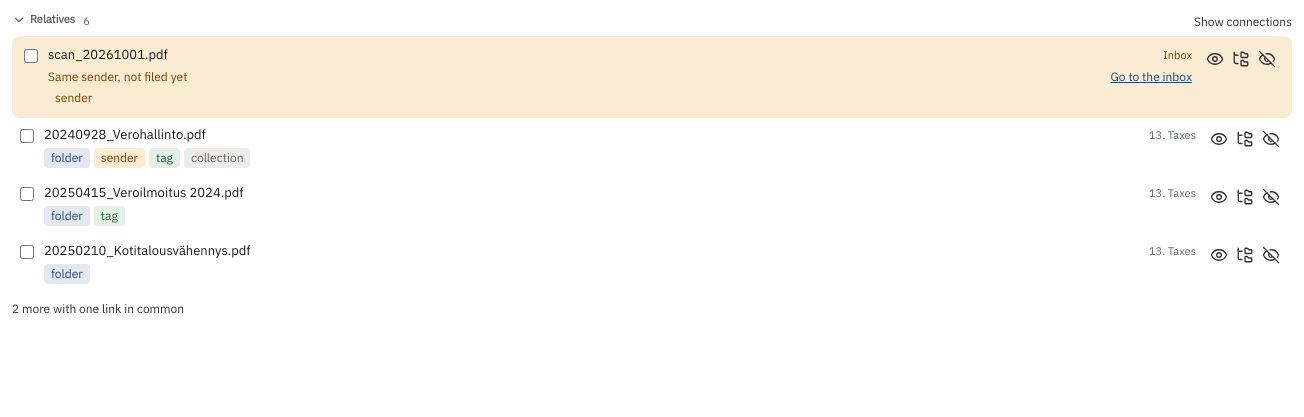
Scenario: the list › More shows the rest, with the same-month booster
Click the button "2 more with one link in common".
click(98, 309)  # box 12,300 -> 184,318
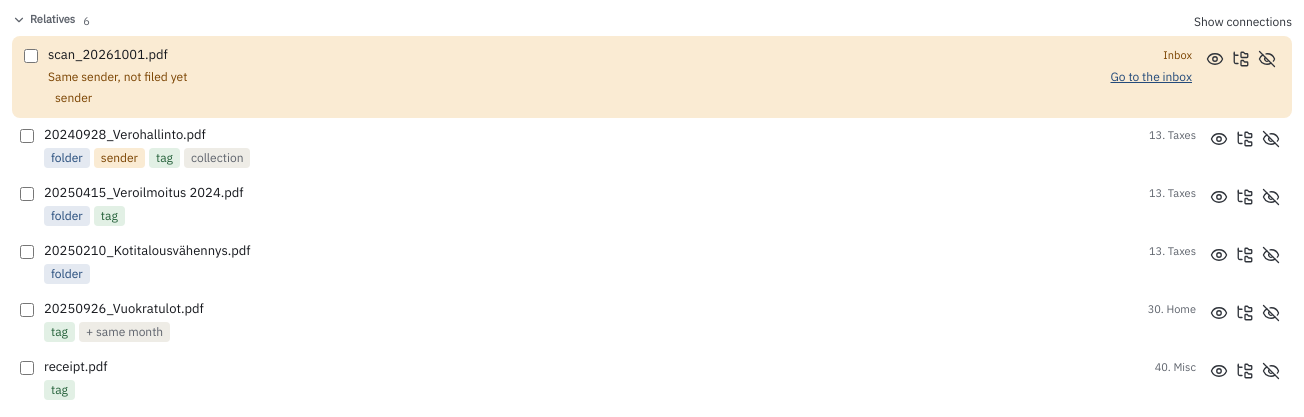
Expected: the number of checkboxes is 6, 24,49 -> 38,63; 20,129 -> 34,143; 20,187 -> 34,201; 20,245 -> 34,259; 20,303 -> 34,317; 20,362 -> 34,376
Expected: the button "more" is gone
